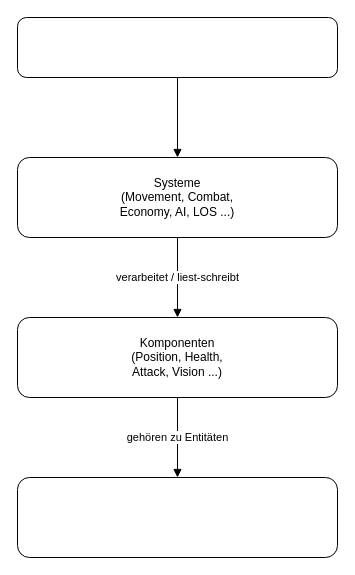
This 355x575 diagram has some shape labels left out. Here are the shapes that lost their labels. From the top down, the centre of each, then its label:
At pixel 177 47: "Deterministische Simulation (fester Simulations-Tick)".
At pixel 177 517: "Entitäten (Units, Buildings, Resources, etc.)".
